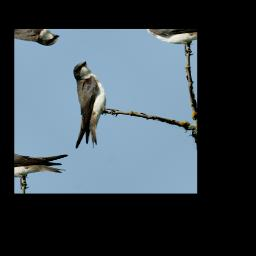Swallow: (29, 59, 139, 156)
